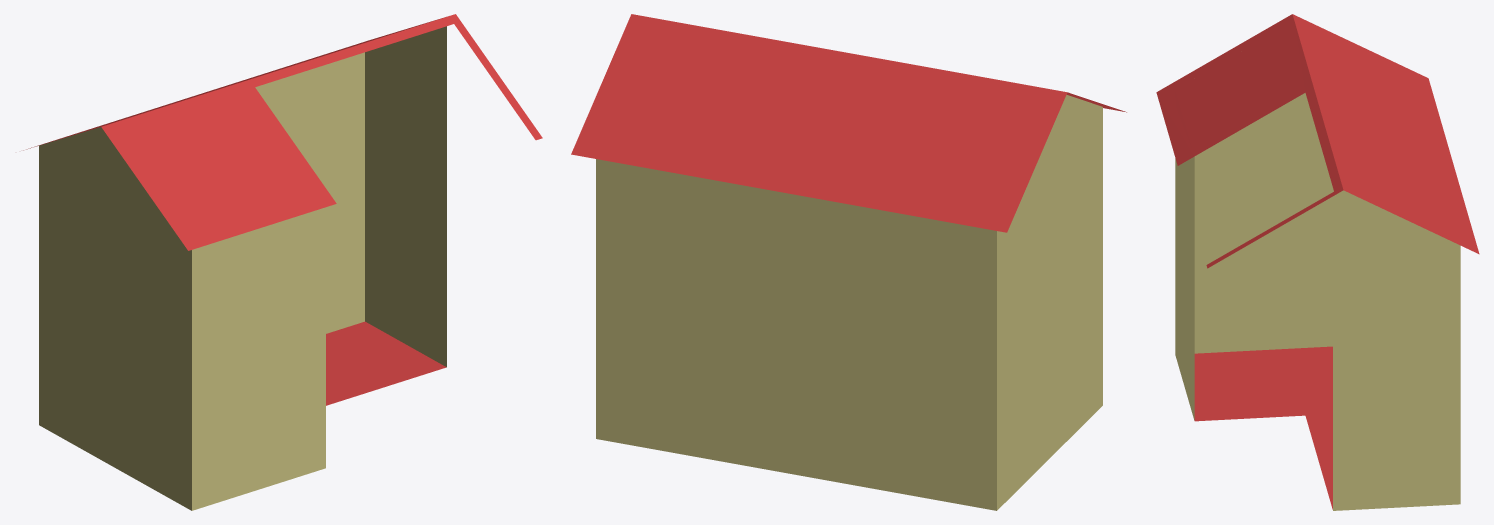
3 views of the same model, side by side, from view 1: azimuth 30°, elevation 25°; view 2: azimuth 150°, elevation 25°; view 3: azimuth 270°, elevation 25° (orthographic). The views are drawn at different scales.
Bounding box in the file's own units: 13.29 × 9.54 × 10.66.
